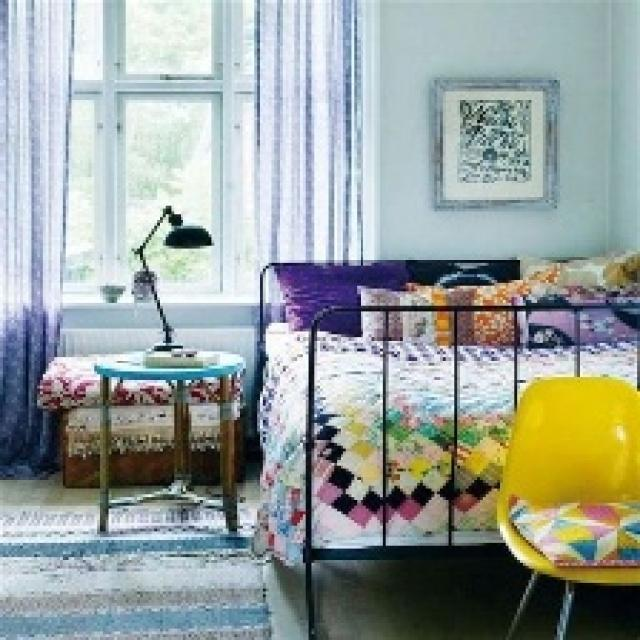Bed: (254, 252, 637, 637)
